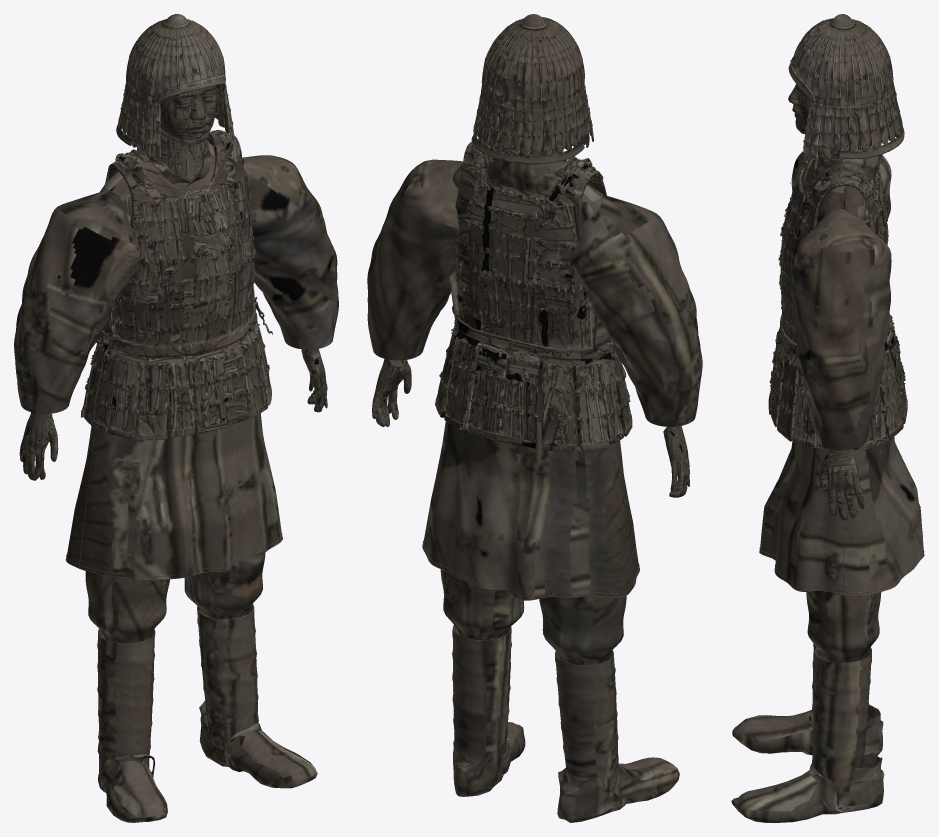
File: DuseokParts.fbx
3 renders of one model, left to right at view 1: azimuth 30°, elevation 25°; view 2: azimuth 150°, elevation 25°; view 3: azimuth 270°, elevation 25°, orthographic. The views are drawn at different scales.
Visible parts, largest first — view 1: EXPORT_Duseok_Combined.004; view 2: EXPORT_Duseok_Combined.004; view 3: EXPORT_Duseok_Combined.004.
Part boxes in pixels (x1,y1,x2,y2): EXPORT_Duseok_Combined.004: [14, 14, 338, 822]; EXPORT_Duseok_Combined.004: [367, 14, 702, 822]; EXPORT_Duseok_Combined.004: [731, 14, 924, 822].
Bounding box in the file's own units: 77.7 × 178 × 40.86.
